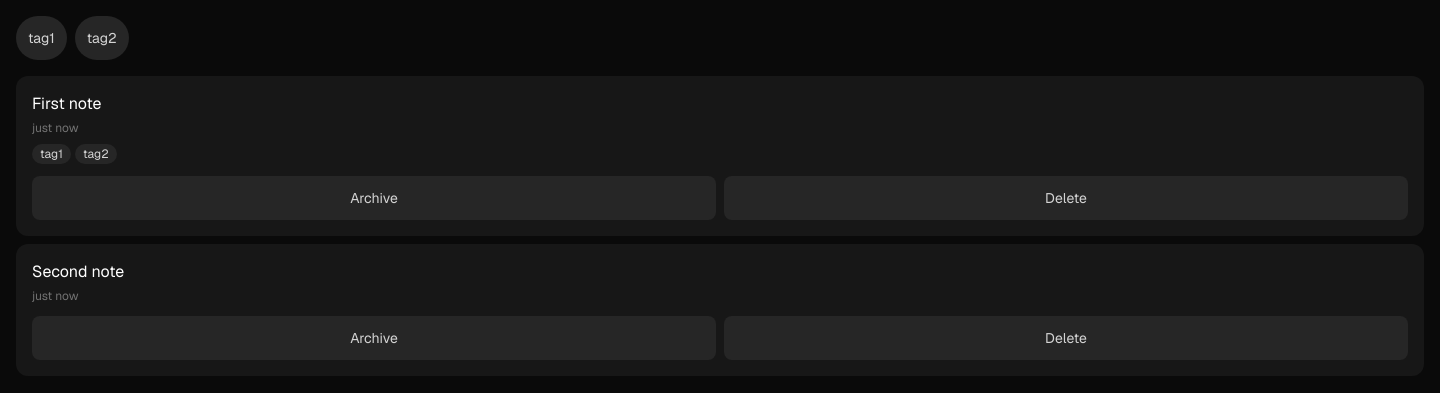
Test: NotesView › shows Confirm Delete and Cancel buttons after clicking Delete
The width and height of the screenshot is (1440, 393).
Click the 1st button "Delete" at (1066, 198), box [724,176,1408,220]
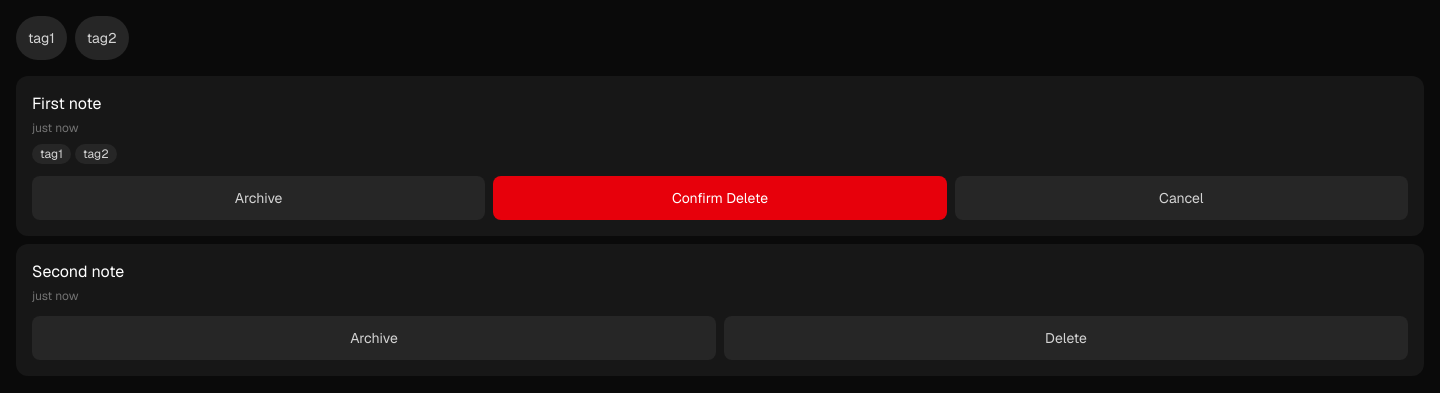
Expected: the button "Confirm Delete" is shown, [493,176,947,220]
Expected: the button "Cancel" is shown, [955,176,1408,220]
